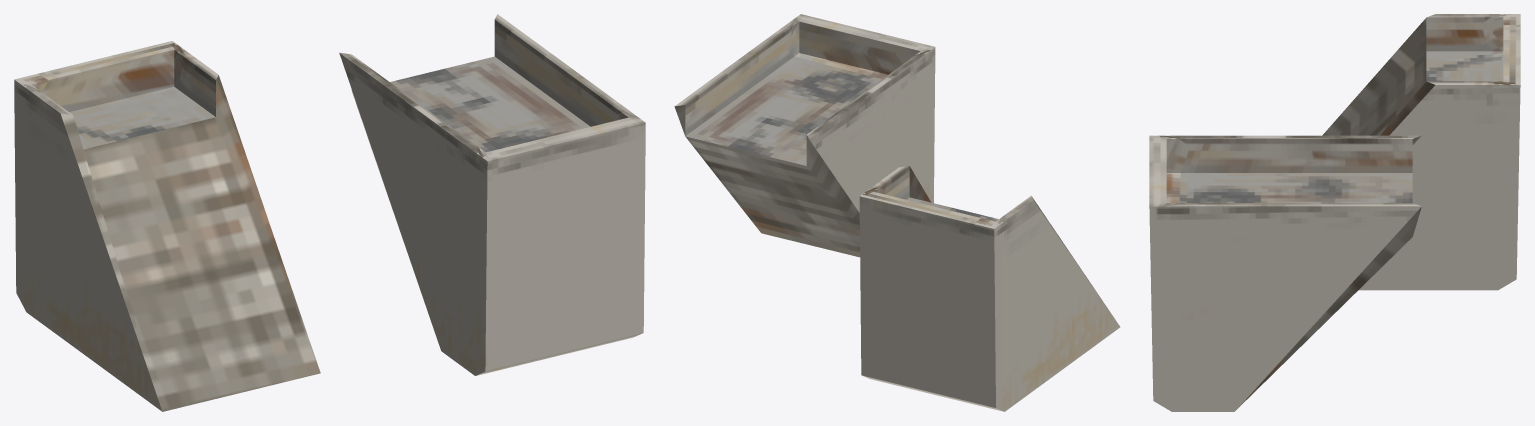
File: broken_toilettank.fbx
3 views of the same model, side by side, from view 1: azimuth 30°, elevation 25°; view 2: azimuth 150°, elevation 25°; view 3: azimuth 270°, elevation 25° (orthographic). The views are drawn at different scales.
Parts seen in each view (by area): view 1: tank_p1, tank_p2; view 2: tank_p1, tank_p2; view 3: tank_p2, tank_p1.
Part boxes in pixels (x1=…): tank_p1: x1=14, y1=41, x2=320, y2=411; tank_p2: x1=339, y1=14, x2=645, y2=375; tank_p1: x1=859, y1=166, x2=1120, y2=411; tank_p2: x1=674, y1=14, x2=935, y2=257; tank_p2: x1=1149, y1=135, x2=1421, y2=411; tank_p1: x1=1322, y1=14, x2=1520, y2=290.
Size of the model in its own units: 1.17 by 0.5831 by 0.9541.
